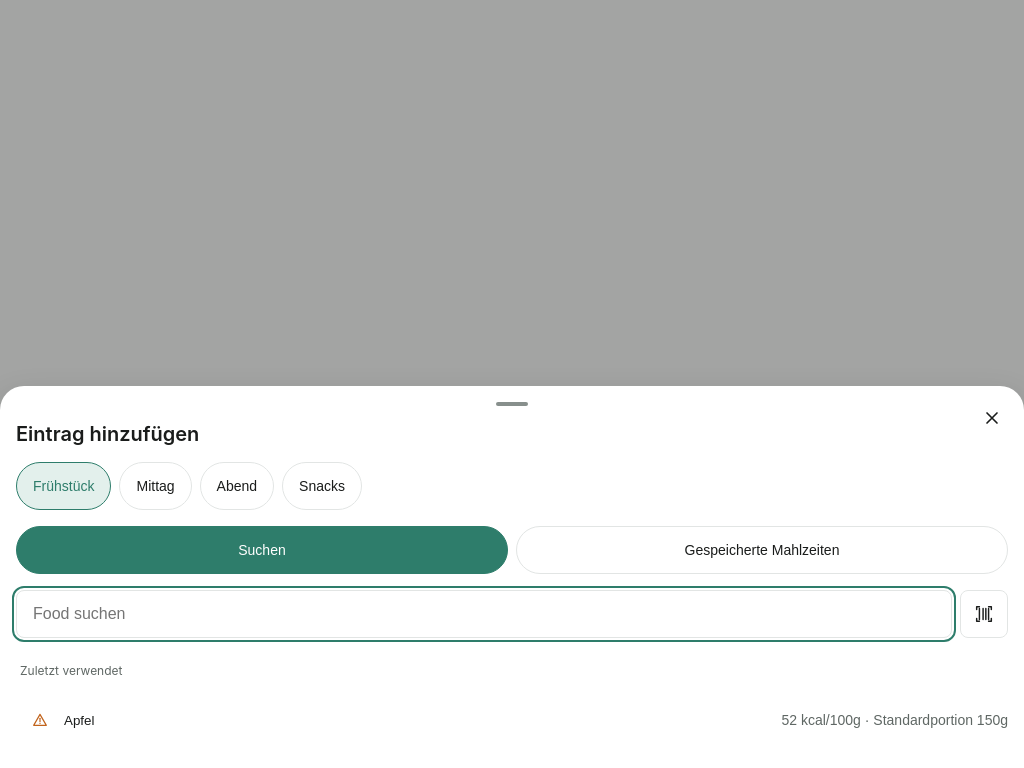
FoodEntrySheetComponent › Plausibilitäts-/Vollständigkeits-Marker (design-conventions.md) › shows the marker and a pencil ("Nährwerte bearbeiten") icon next to the food name in Step B
What coordinates should you click on to do the following:
click the button with class "result-row"
I would click on:
 (131, 719)
Its box is top-left (64, 696), bottom-right (1008, 744).
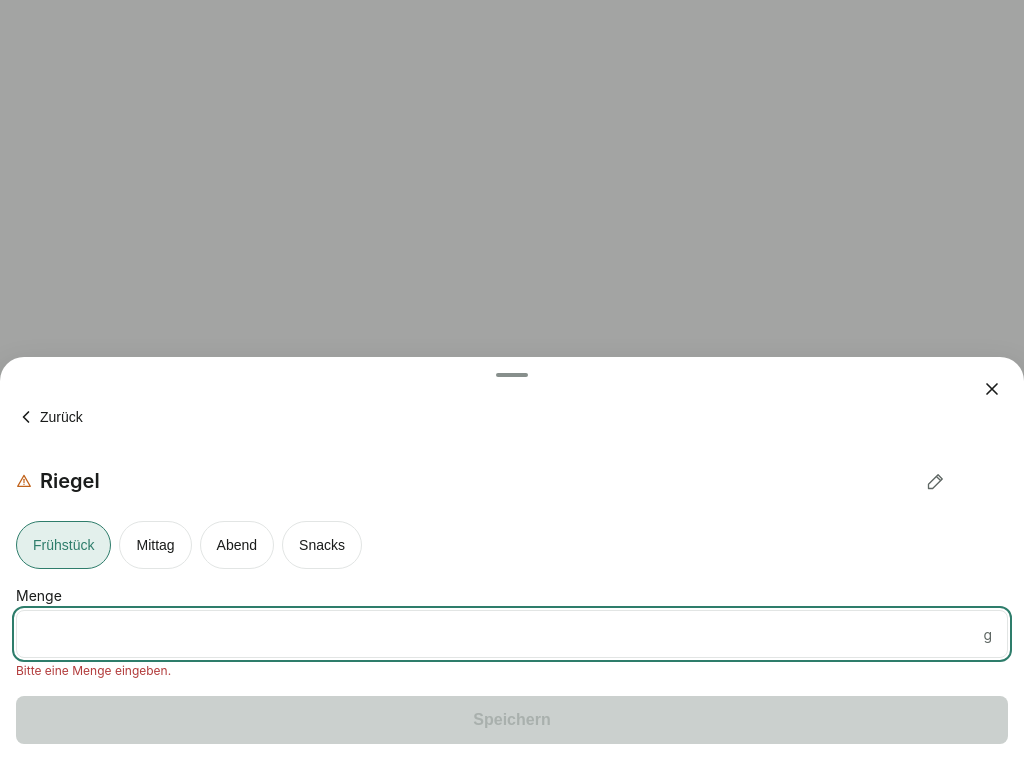
Now the icon with class "marker-icon-inline" is shown, box top-left (16, 473), bottom-right (32, 489)
Now the button with class "edit-food-button" is shown, box top-left (912, 457), bottom-right (960, 505)
